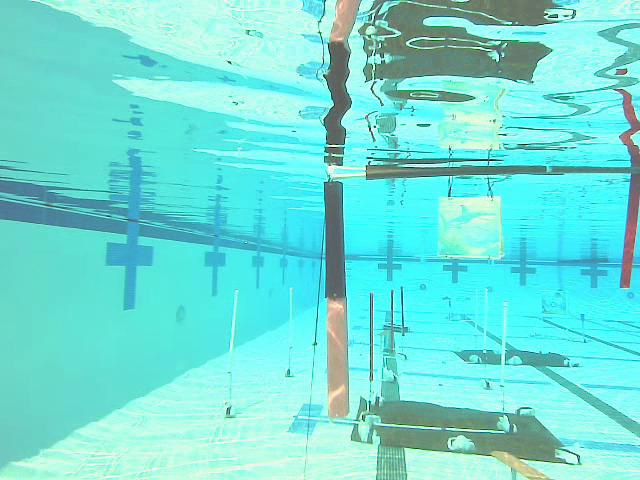black_poster: (365, 292, 377, 388), (388, 293, 398, 359)
divider: (621, 177, 640, 288)
left_gate_poster: (321, 179, 356, 422)
shark: (432, 197, 509, 262)
white_poster: (225, 289, 241, 419), (497, 308, 511, 418), (285, 290, 297, 377), (482, 294, 492, 388)
